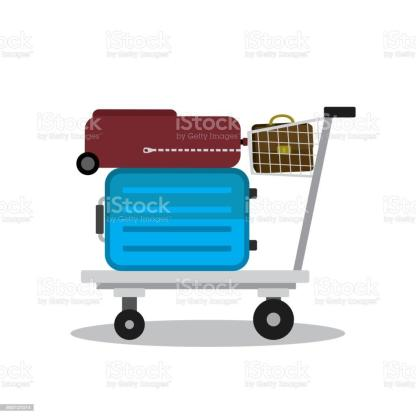airport-trolley: (77, 106, 357, 340)
